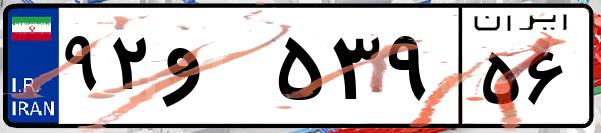2: (110, 28, 158, 98)
3: (330, 28, 385, 110)
5: (270, 28, 330, 110), (475, 38, 525, 113)
6: (525, 38, 570, 115)
9: (385, 28, 445, 110), (57, 26, 110, 100)
و: (158, 20, 270, 120)
